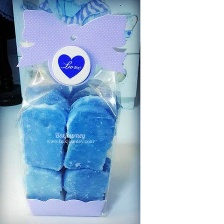snack: (8, 4, 134, 221)
